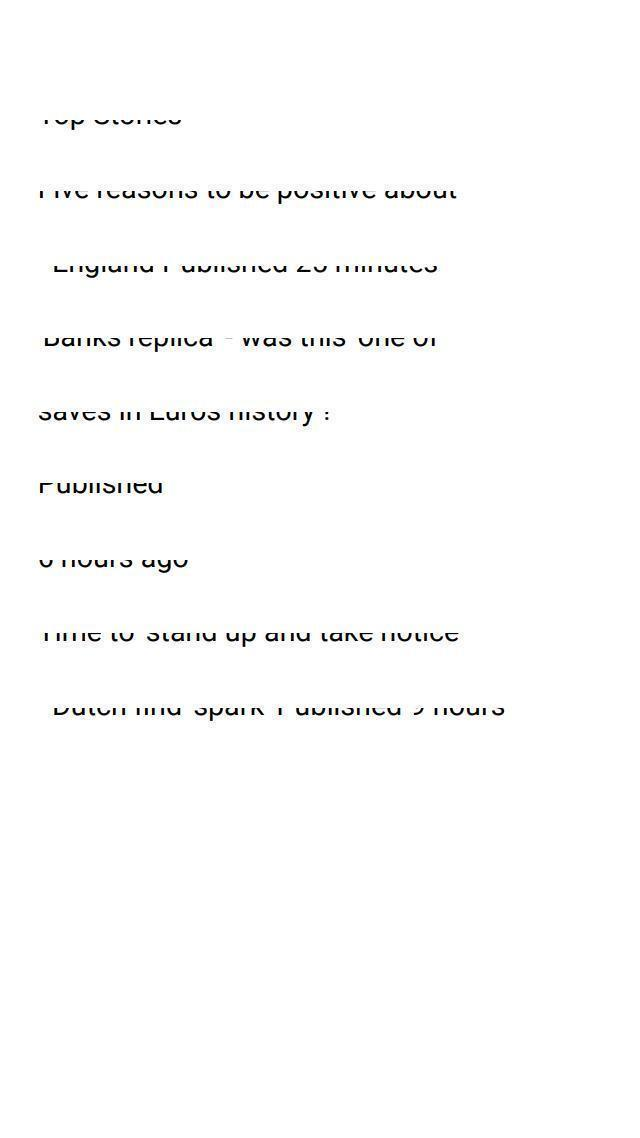WS3: (42, 698, 516, 723), (38, 623, 468, 649), (48, 256, 450, 280), (32, 186, 472, 206), (30, 406, 320, 428), (39, 335, 452, 350), (35, 552, 193, 578), (30, 115, 193, 136), (35, 476, 170, 499)
